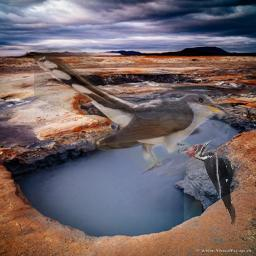Cuckoo: (34, 48, 233, 176)
Woodpecker: (184, 140, 244, 228)
